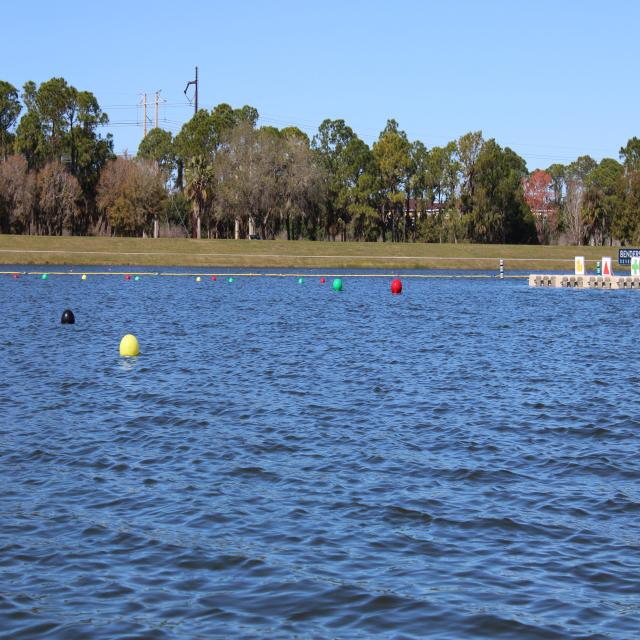black-buoy: (61, 309, 76, 325)
green-buoy: (334, 278, 344, 292), (42, 274, 48, 282), (228, 278, 233, 285)
red-buoy: (391, 279, 402, 295), (320, 278, 326, 285), (212, 276, 217, 283)
yellow-buoy: (121, 336, 141, 359), (81, 274, 87, 282), (198, 276, 202, 284)
